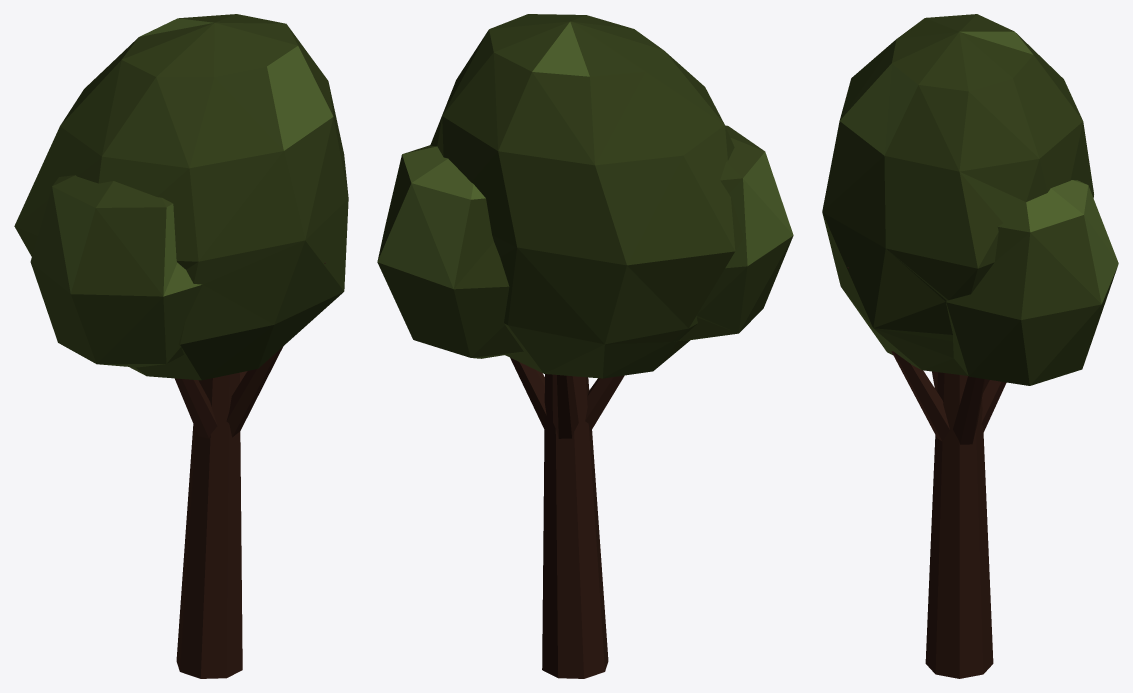
File: Tree_Oak_01.fbx
3 views of the same model, side by side, from view 1: azimuth 30°, elevation 25°; view 2: azimuth 150°, elevation 25°; view 3: azimuth 270°, elevation 25° (orthographic).
Parts seen in each view (by area): view 1: Tree_Oak_01_Foliage, Tree_Oak_01_Trunk; view 2: Tree_Oak_01_Foliage, Tree_Oak_01_Trunk; view 3: Tree_Oak_01_Foliage, Tree_Oak_01_Trunk.
Part boxes in pixels (x1=…): Tree_Oak_01_Foliage: x1=14, y1=14, x2=348, y2=380; Tree_Oak_01_Trunk: x1=174, y1=262, x2=325, y2=678; Tree_Oak_01_Foliage: x1=377, y1=14, x2=793, y2=378; Tree_Oak_01_Trunk: x1=510, y1=357, x2=624, y2=678; Tree_Oak_01_Foliage: x1=822, y1=14, x2=1118, y2=385; Tree_Oak_01_Trunk: x1=847, y1=267, x2=1006, y2=678.
Bounding box in the file's own units: 2.54 × 4.63 × 1.96.
1 material, 1 textured.
